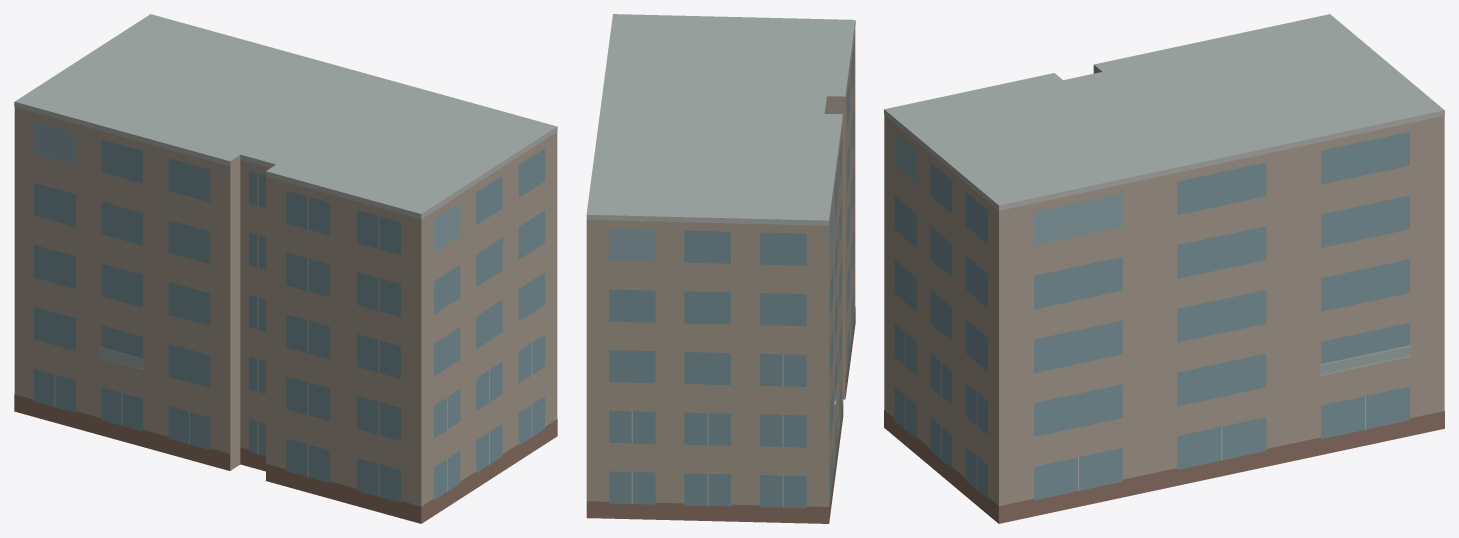
The model's file is survey-upis-32839754.glb.
The picture shows the model from 3 angles, left to right: view 1: azimuth 30°, elevation 25°; view 2: azimuth 150°, elevation 25°; view 3: azimuth 270°, elevation 25°; orthographic projection. The views are drawn at different scales.
Visible parts, largest first — view 1: survey-upis-32839754.tmp; view 2: survey-upis-32839754.tmp; view 3: survey-upis-32839754.tmp.
Boxes of the visible parts, <box> form: survey-upis-32839754.tmp: <box>14,14,557,523</box>; survey-upis-32839754.tmp: <box>586,14,855,523</box>; survey-upis-32839754.tmp: <box>884,14,1444,523</box>.
Size of the model in its own units: 18.7 by 14.49 by 23.13.
